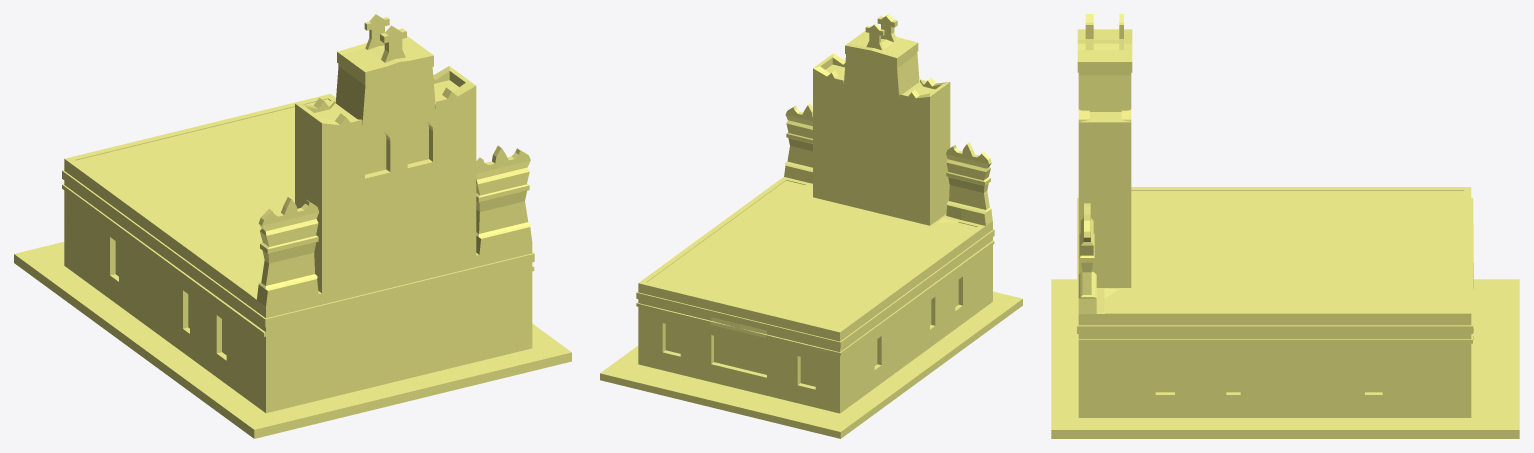
File: IglesiaAmarilla.glb
3 renders of one model, left to right at view 1: azimuth 30°, elevation 25°; view 2: azimuth 150°, elevation 25°; view 3: azimuth 270°, elevation 25°, orthographic. The views are drawn at different scales.
Parts seen in each view (by area): view 1: Cube; view 2: Cube; view 3: Cube.
Boxes of the visible parts, box(x1,y1,x2,y2) form: Cube: box(14, 14, 571, 438); Cube: box(600, 14, 1022, 438); Cube: box(1051, 14, 1519, 438).
Bounding box in the file's own units: 1.52 × 1.64 × 1.99.
